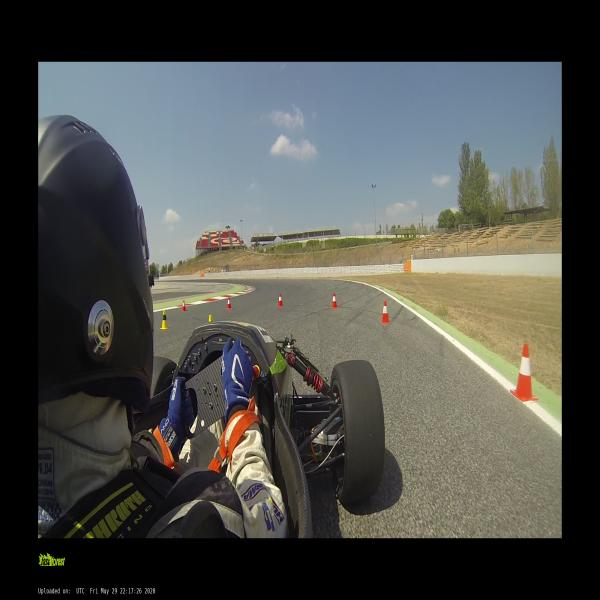orange_cone: (511, 345, 538, 402), (380, 301, 392, 324), (330, 292, 338, 308), (277, 294, 283, 306), (226, 297, 231, 310), (181, 300, 186, 312)
yellow_cone: (159, 310, 169, 330), (208, 315, 212, 323)
